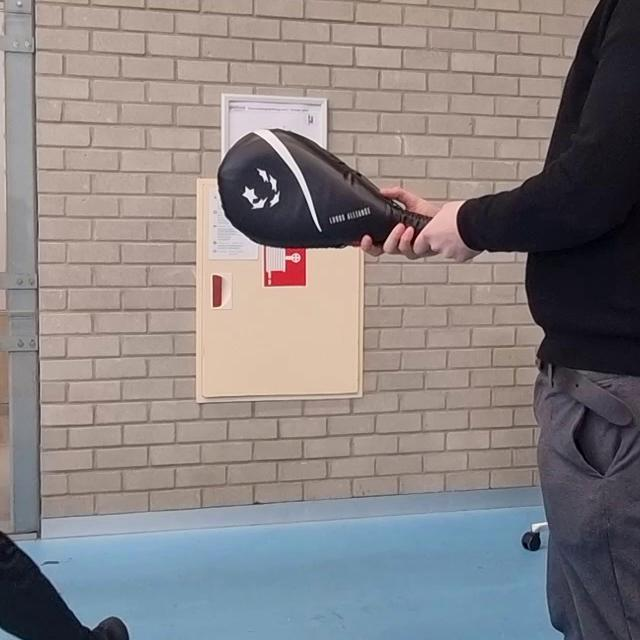paddle: (217, 129, 433, 251)
